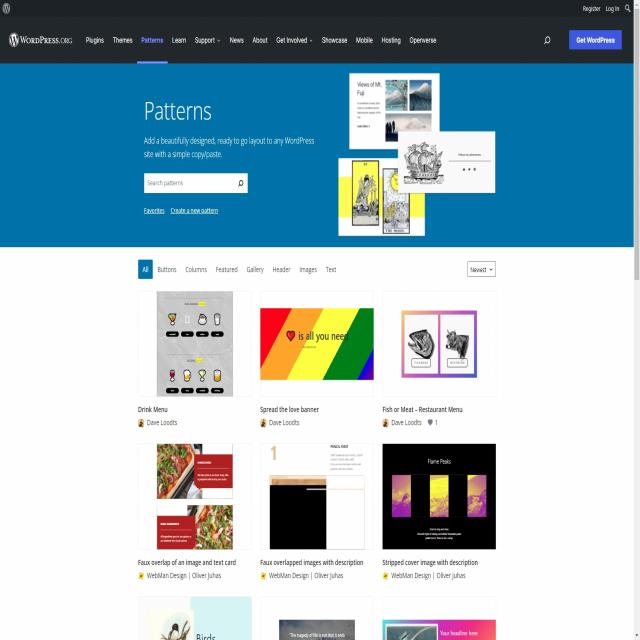menu-bar: (79, 29, 444, 65), (530, 24, 628, 55), (578, 1, 633, 18)
menu-panel: (136, 255, 341, 282)
search: (141, 167, 250, 196)
